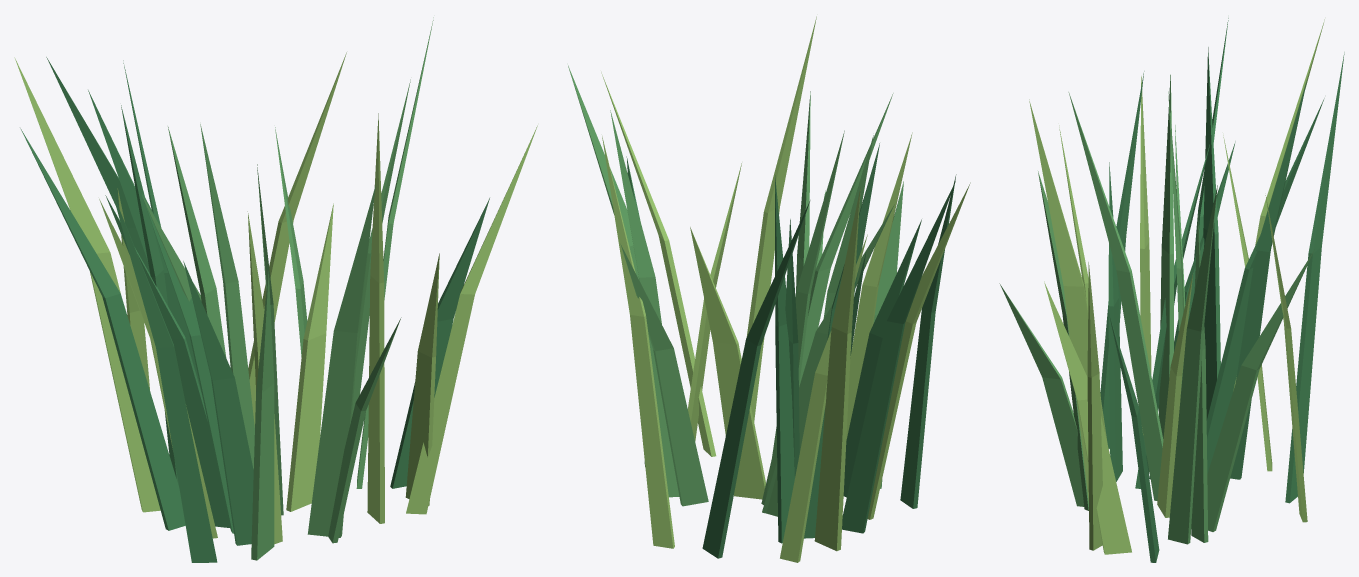
File: grass_tuft_b.glb
3 views of the same model, side by side, from view 1: azimuth 30°, elevation 25°; view 2: azimuth 150°, elevation 25°; view 3: azimuth 270°, elevation 25° (orthographic). The views are drawn at different scales.
Parts seen in each view (by area): view 1: Tuft_1.001, Tuft_3.001, Tuft_2.001; view 2: Tuft_3.001, Tuft_1.001, Tuft_2.001; view 3: Tuft_2.001, Tuft_1.001, Tuft_3.001.
Part boxes in pixels (x1,y1,x2,y2): Tuft_1.001: [20, 57, 489, 562]; Tuft_3.001: [14, 52, 537, 544]; Tuft_2.001: [142, 17, 433, 560]; Tuft_3.001: [601, 16, 970, 562]; Tuft_1.001: [626, 143, 956, 558]; Tuft_2.001: [568, 65, 903, 516]; Tuft_2.001: [999, 74, 1314, 544]; Tuft_1.001: [1100, 18, 1344, 562]; Tuft_3.001: [1029, 19, 1324, 554].
Bounding box in the file's own units: 1.16 × 1.12 × 0.8442.
